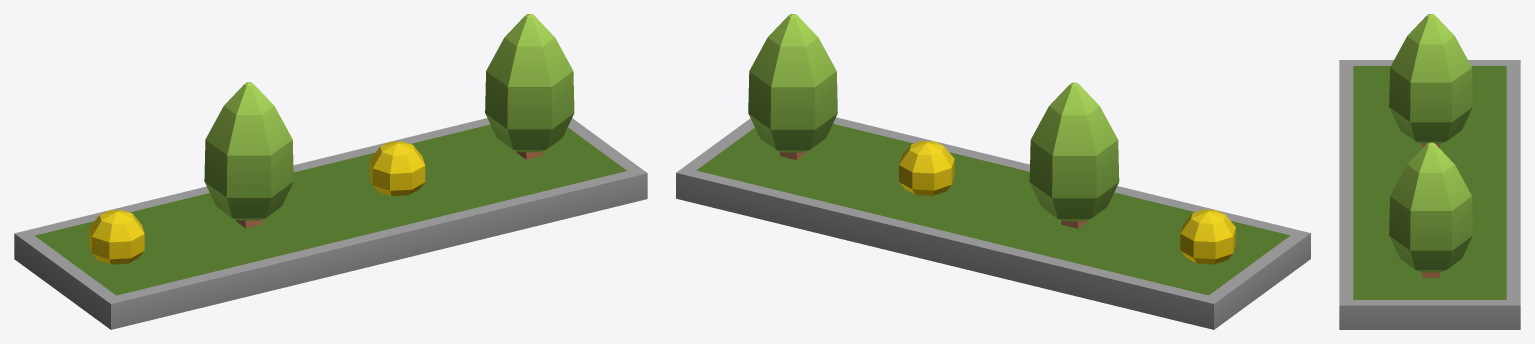
File: lawn with bushes.fbx
The picture shows the model from 3 angles, left to right: view 1: azimuth 30°, elevation 25°; view 2: azimuth 150°, elevation 25°; view 3: azimuth 270°, elevation 25°; orthographic projection. The views are drawn at different scales.
Visible parts, largest first — view 1: lawn_with_bushes; view 2: lawn_with_bushes; view 3: lawn_with_bushes.
Part boxes in pixels (x1,y1,x2,y2): lawn_with_bushes: (14, 14, 647, 329); lawn_with_bushes: (676, 14, 1310, 329); lawn_with_bushes: (1339, 14, 1520, 329).
Bounding box in the file's own units: 641 × 189 × 200.
1 material, 1 textured.
